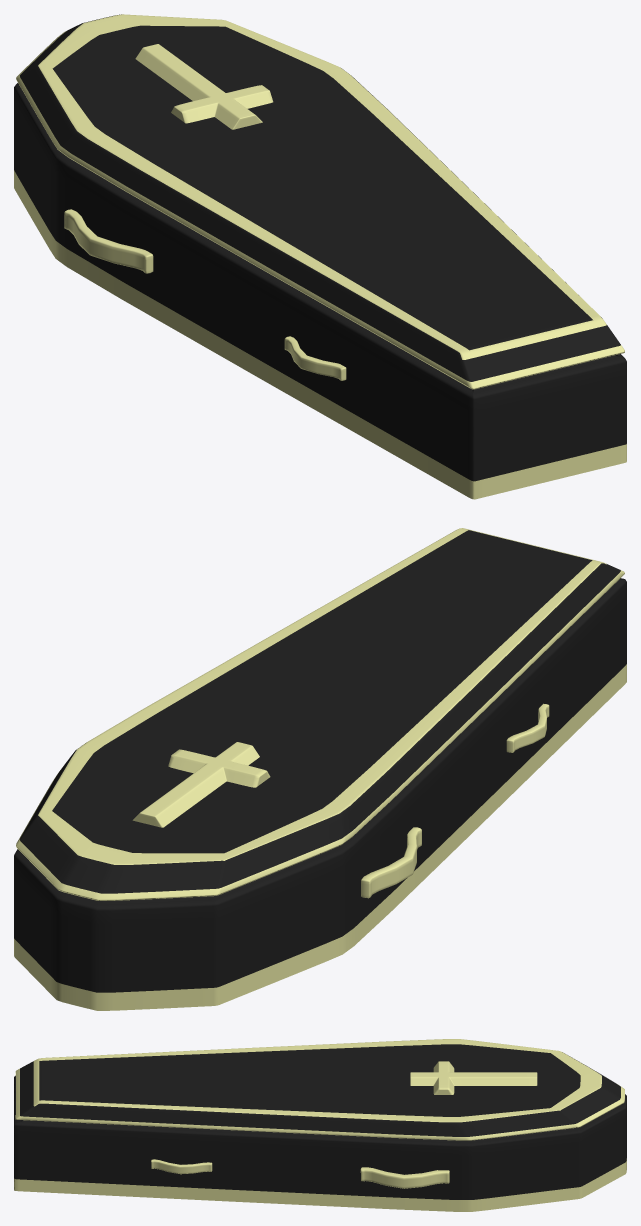
The model's file is coffin.fbx.
The picture shows the model from 3 angles, top to bottom: view 1: azimuth 30°, elevation 25°; view 2: azimuth 150°, elevation 25°; view 3: azimuth 270°, elevation 25°; orthographic projection. The views are drawn at different scales.
Visible parts, largest first — view 1: pCube9; view 2: pCube9; view 3: pCube9.
Boxes of the visible parts, left/top/right/bottom form: pCube9: left=14, top=14, right=626, bottom=499; pCube9: left=14, top=528, right=626, bottom=1010; pCube9: left=14, top=1039, right=626, bottom=1211.
Size of the model in its own units: 275 by 114 by 689.
